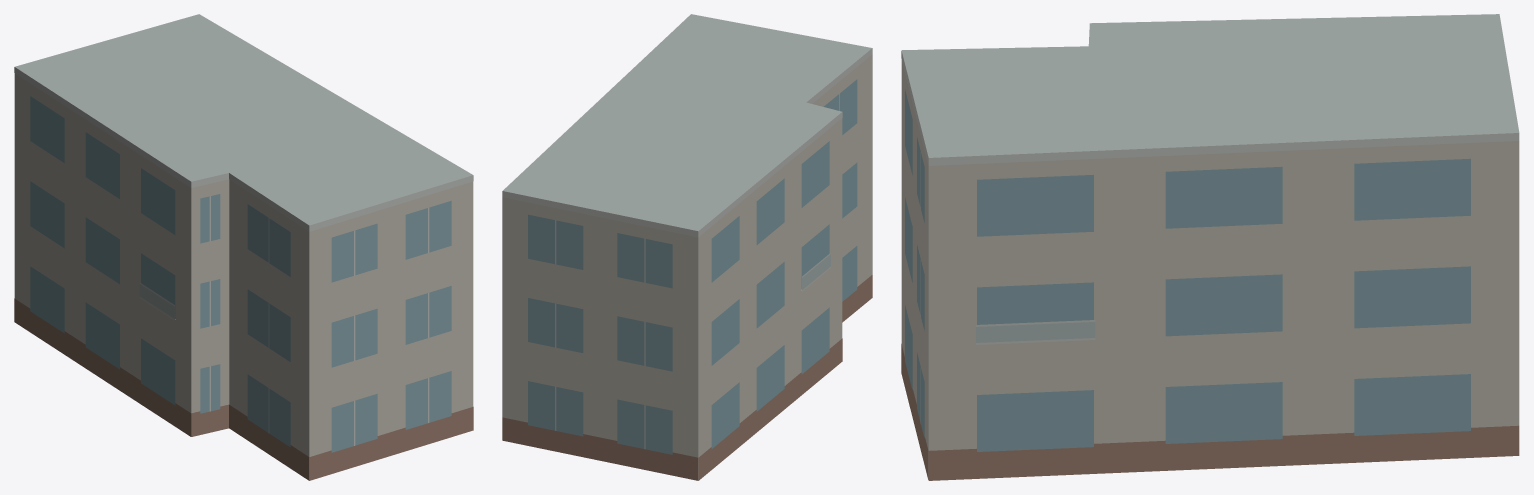
The model's file is survey-upis-32765221.glb.
3 renders of one model, left to right at view 1: azimuth 30°, elevation 25°; view 2: azimuth 150°, elevation 25°; view 3: azimuth 270°, elevation 25°, orthographic. The views are drawn at different scales.
Visible parts, largest first — view 1: survey-upis-32765221.tmp; view 2: survey-upis-32765221.tmp; view 3: survey-upis-32765221.tmp.
Boxes of the visible parts, x1,y1,x2,y2 form: survey-upis-32765221.tmp: [14, 14, 473, 480]; survey-upis-32765221.tmp: [502, 14, 872, 480]; survey-upis-32765221.tmp: [901, 14, 1519, 480].
Size of the model in its own units: 9.48 by 9.9 by 17.18.
